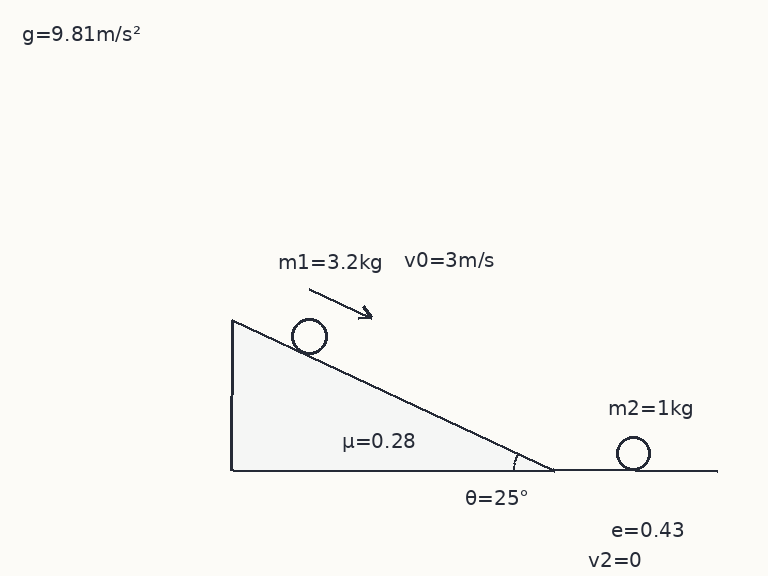ball: (289, 316, 329, 356), (614, 434, 652, 472)
ramp: (230, 318, 556, 472)
